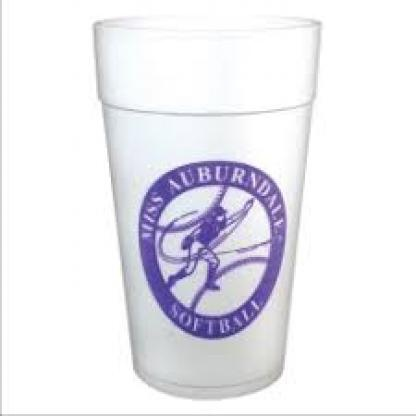trash: (94, 17, 319, 397)
